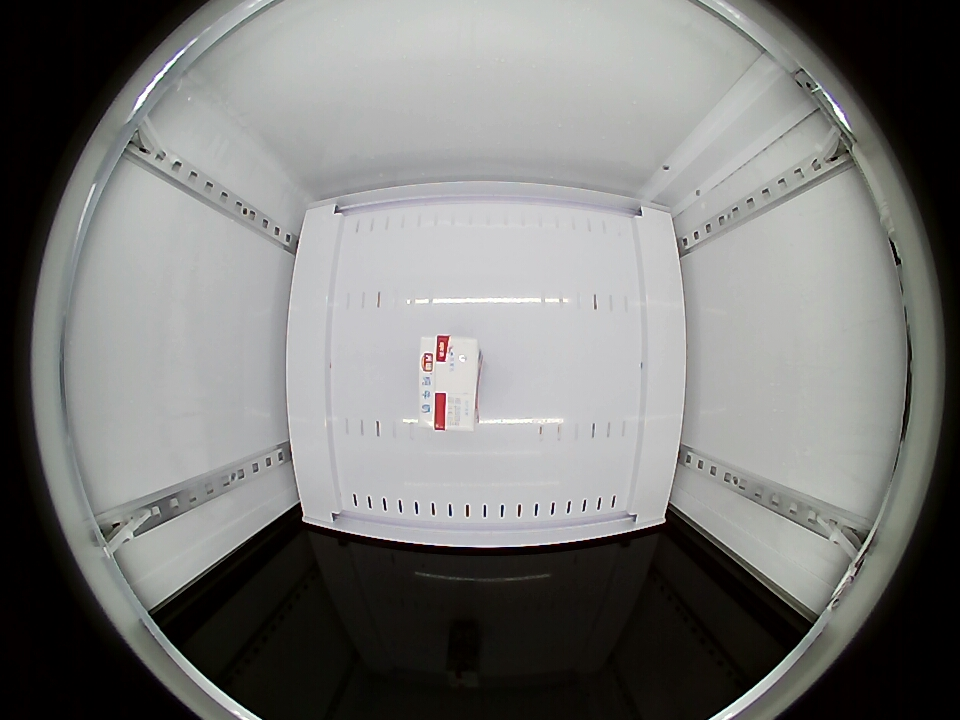niunai: (419, 334, 482, 431)
